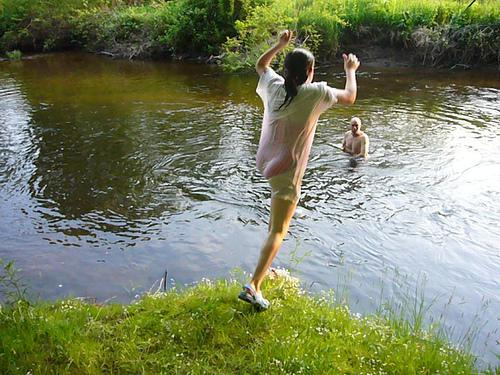swimmer: (231, 35, 360, 305), (342, 118, 370, 162)
